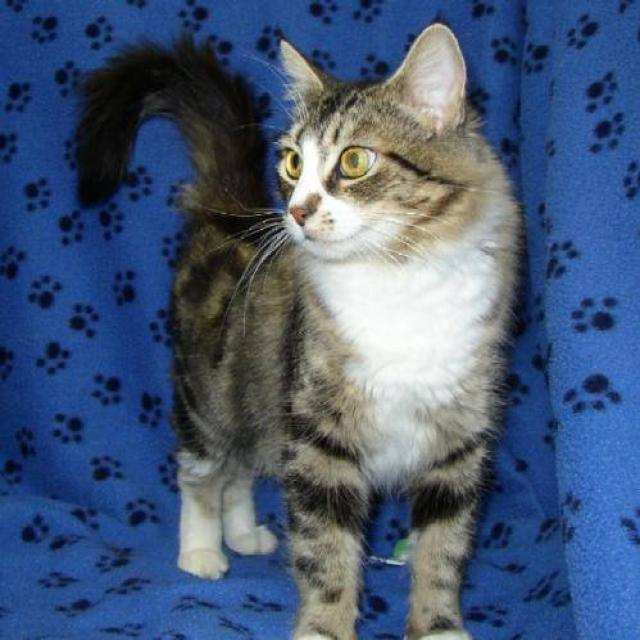cat: (70, 21, 526, 639)
